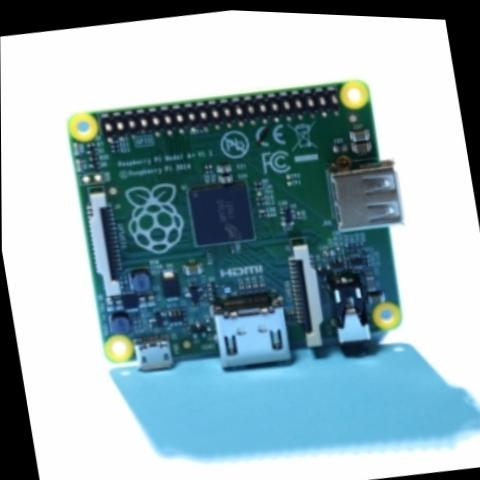Raspberry-Pi-1-Model-A-: (42, 40, 436, 404)
